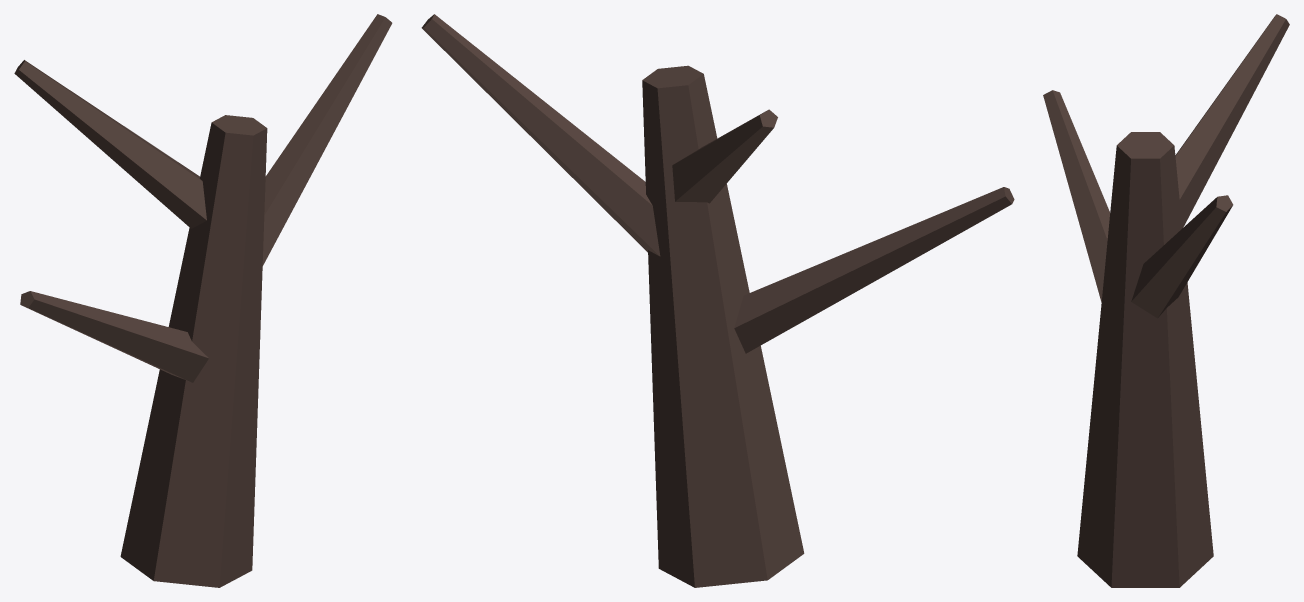
The model's file is EXTG_MainWestThorn_00.glb.
The picture shows the model from 3 angles, left to right: view 1: azimuth 30°, elevation 25°; view 2: azimuth 150°, elevation 25°; view 3: azimuth 270°, elevation 25°; orthographic projection. The views are drawn at different scales.
Visible parts, largest first — view 1: EXTG_MainWestThorn_00; view 2: EXTG_MainWestThorn_00; view 3: EXTG_MainWestThorn_00.
Part boxes in pixels (x1=…): EXTG_MainWestThorn_00: x1=14, y1=14, x2=392, y2=587; EXTG_MainWestThorn_00: x1=421, y1=14, x2=1014, y2=587; EXTG_MainWestThorn_00: x1=1043, y1=14, x2=1289, y2=587.
Size of the model in its own units: 1.02 by 1.05 by 0.4705.
